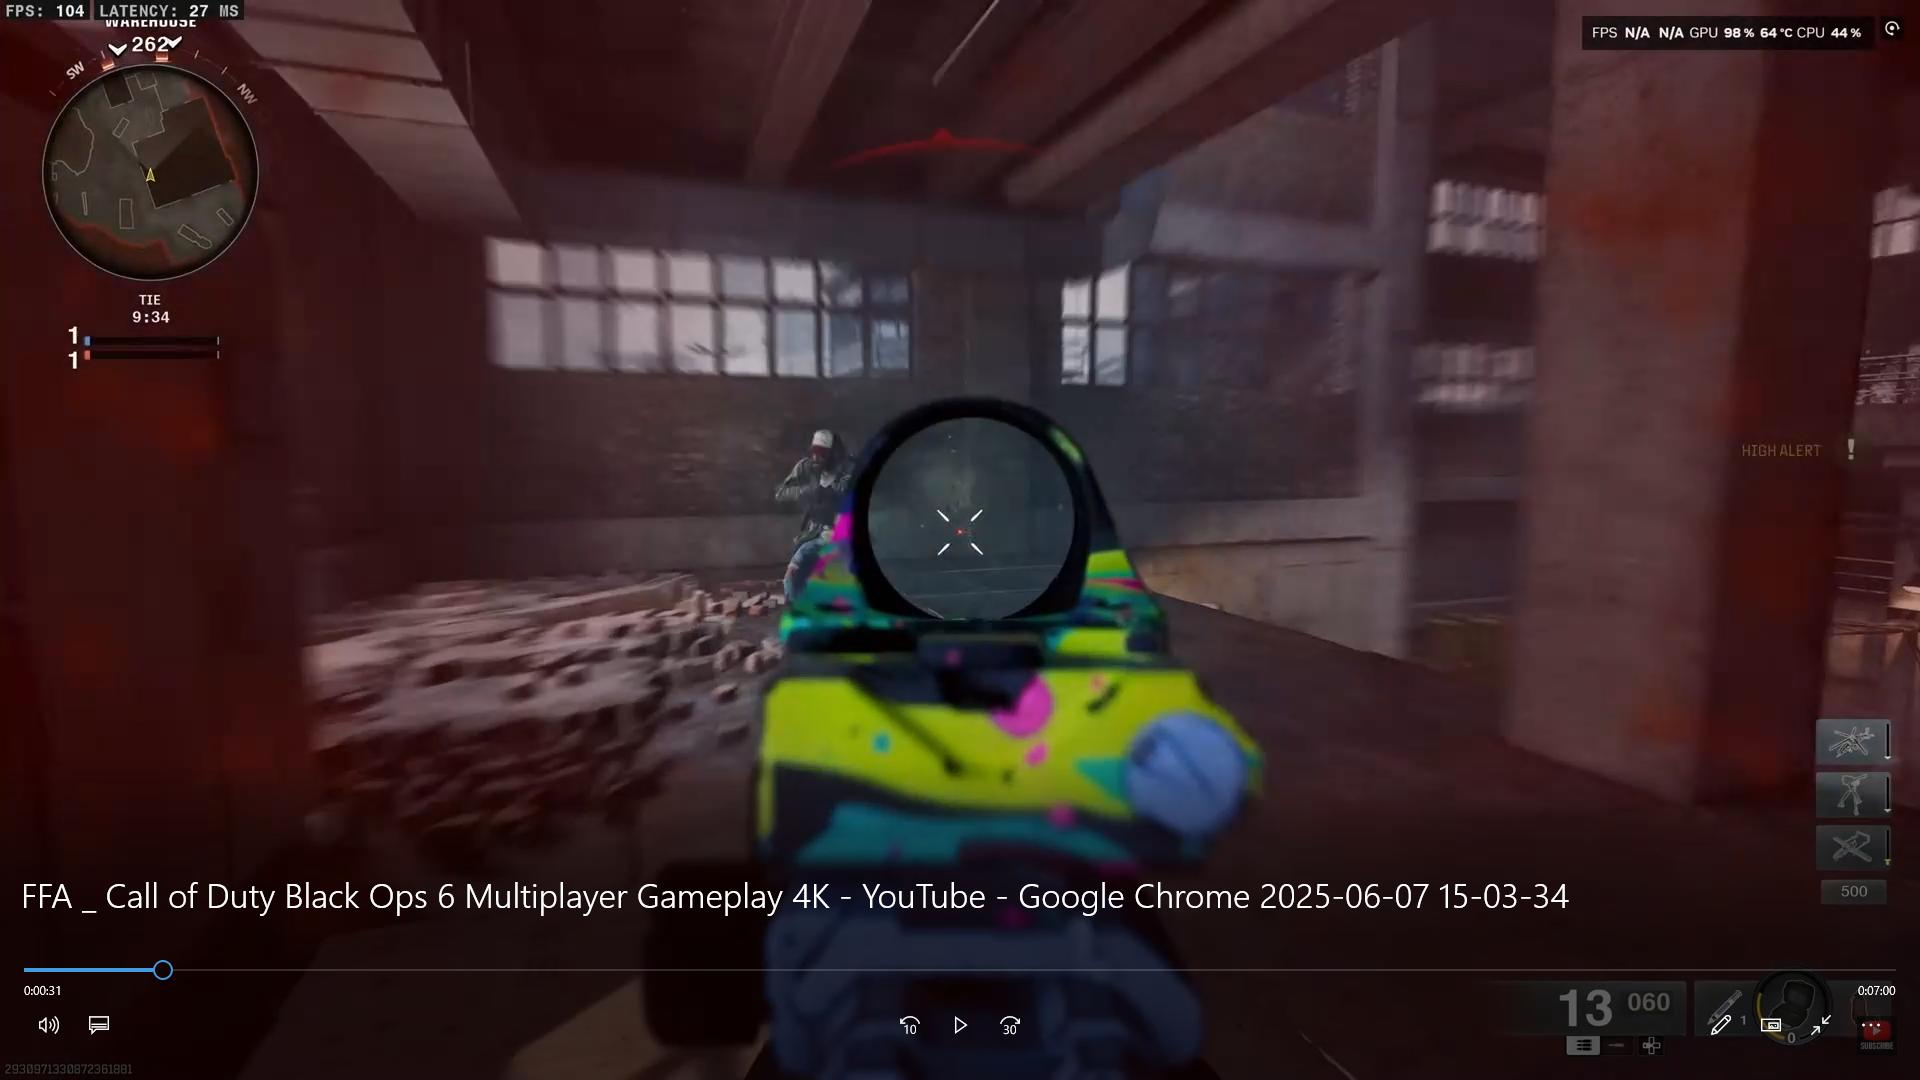Enemy: (779, 417, 844, 549)
